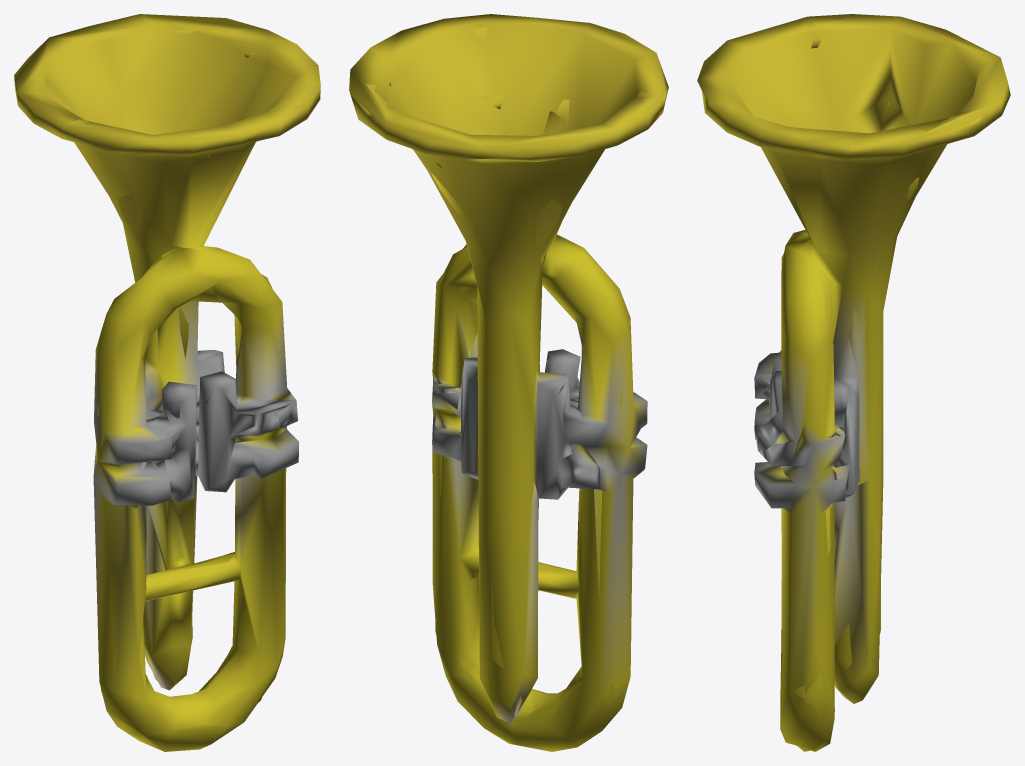
The model's file is gen3d-tuba-lod1.glb.
3 renders of one model, left to right at view 1: azimuth 30°, elevation 25°; view 2: azimuth 150°, elevation 25°; view 3: azimuth 270°, elevation 25°, orthographic. The views are drawn at different scales.
Visible parts, largest first — view 1: part_0; view 2: part_0; view 3: part_0.
Boxes of the visible parts, x1,y1,x2,y2 form: part_0: [14, 14, 320, 751]; part_0: [349, 14, 668, 751]; part_0: [697, 14, 1010, 751].
Size of the model in its own units: 0.4249 by 0.9985 by 0.4262.
